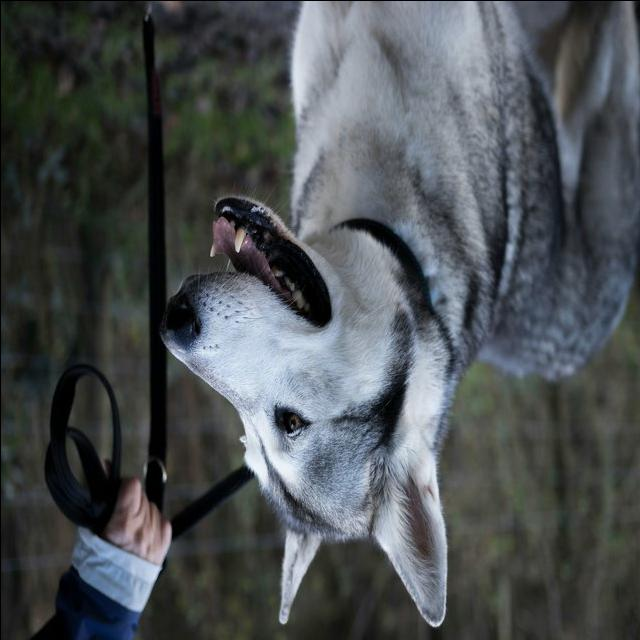husky: (158, 2, 640, 628)
